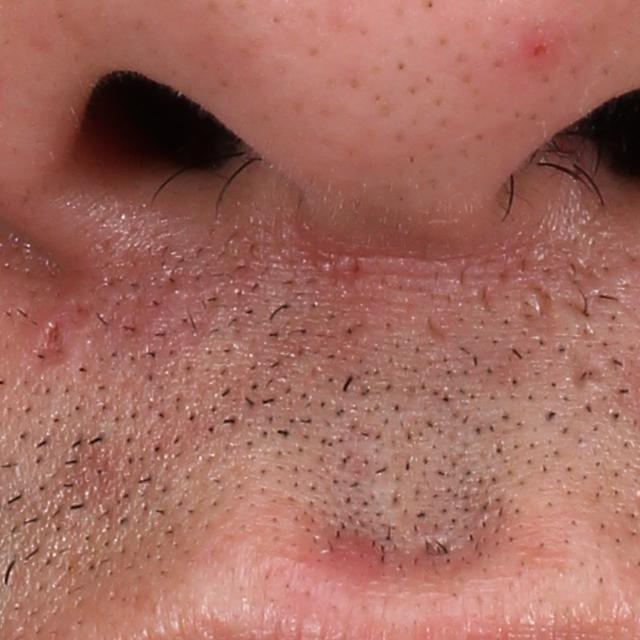atrophic_scar: (30, 311, 79, 370), (566, 345, 615, 393), (525, 278, 559, 336), (425, 311, 454, 343)
papule: (520, 30, 564, 73)
